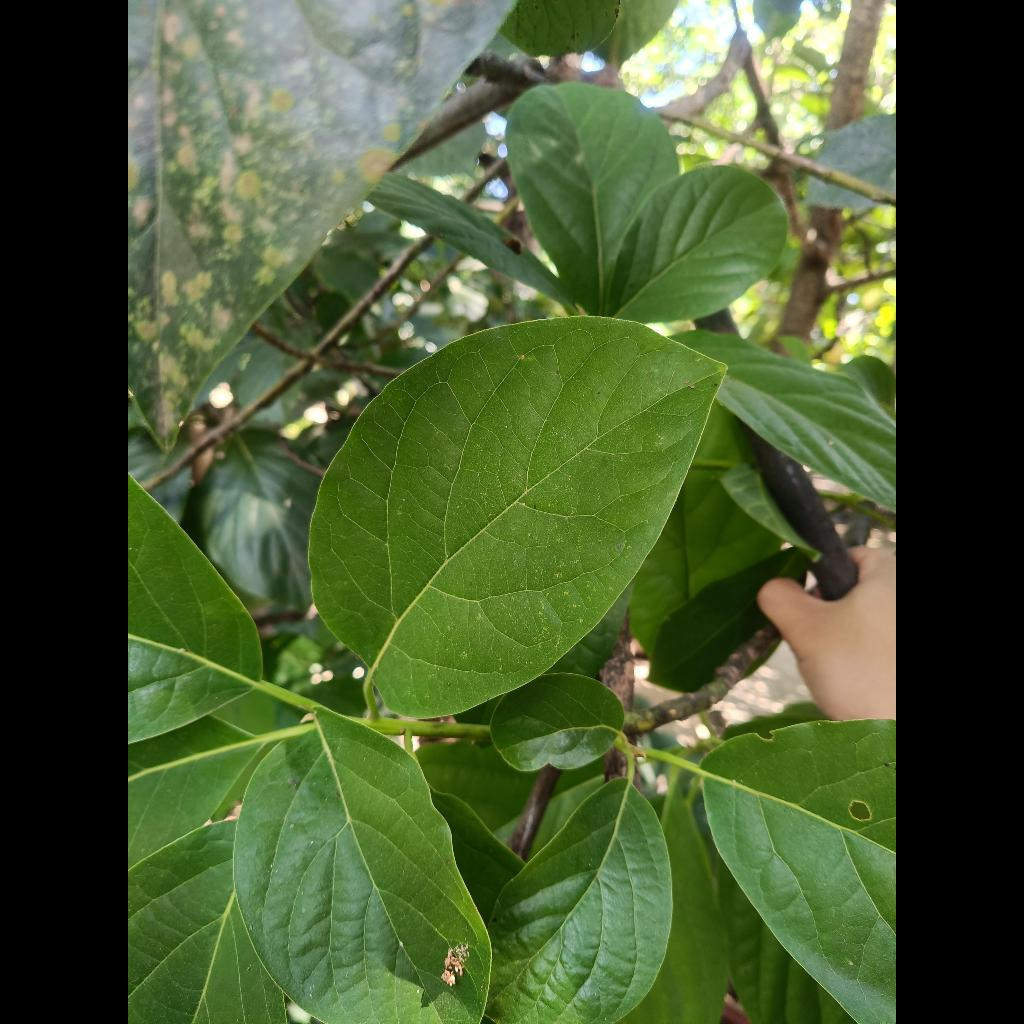hoja_sana: (309, 317, 723, 717)
